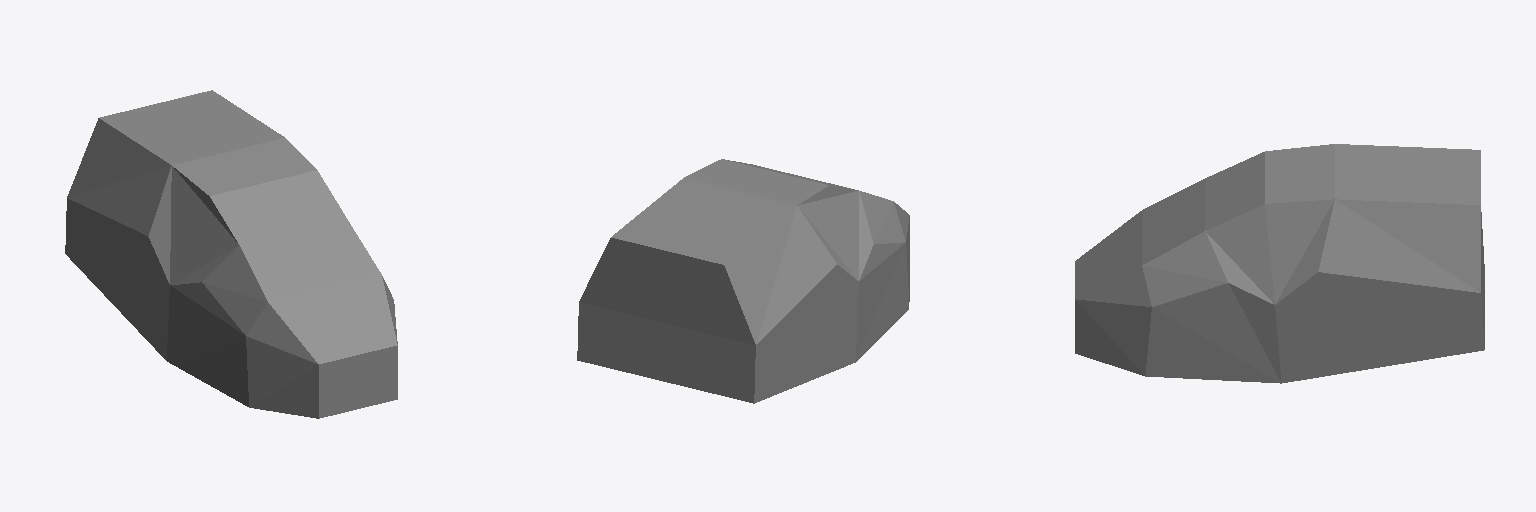
File: porygonCabeza.obj
3 views of the same model, side by side, from view 1: azimuth 30°, elevation 25°; view 2: azimuth 150°, elevation 25°; view 3: azimuth 270°, elevation 25° (orthographic).
Visible parts, largest first — view 1: porygonCabeza; view 2: porygonCabeza; view 3: porygonCabeza.
Part boxes in pixels (left/top/right/bottom): porygonCabeza: left=65, top=90, right=397, bottom=418; porygonCabeza: left=577, top=159, right=909, bottom=403; porygonCabeza: left=1075, top=144, right=1484, bottom=383.
Bounding box in the file's own units: 1.01 × 0.9235 × 2.03.